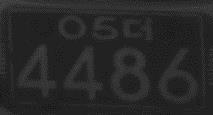0: (58, 13, 86, 40)
4: (64, 45, 103, 101), (16, 43, 56, 97)
5: (90, 15, 117, 41)
6: (157, 47, 198, 104)
8: (109, 46, 149, 102)
더: (122, 15, 153, 42)
